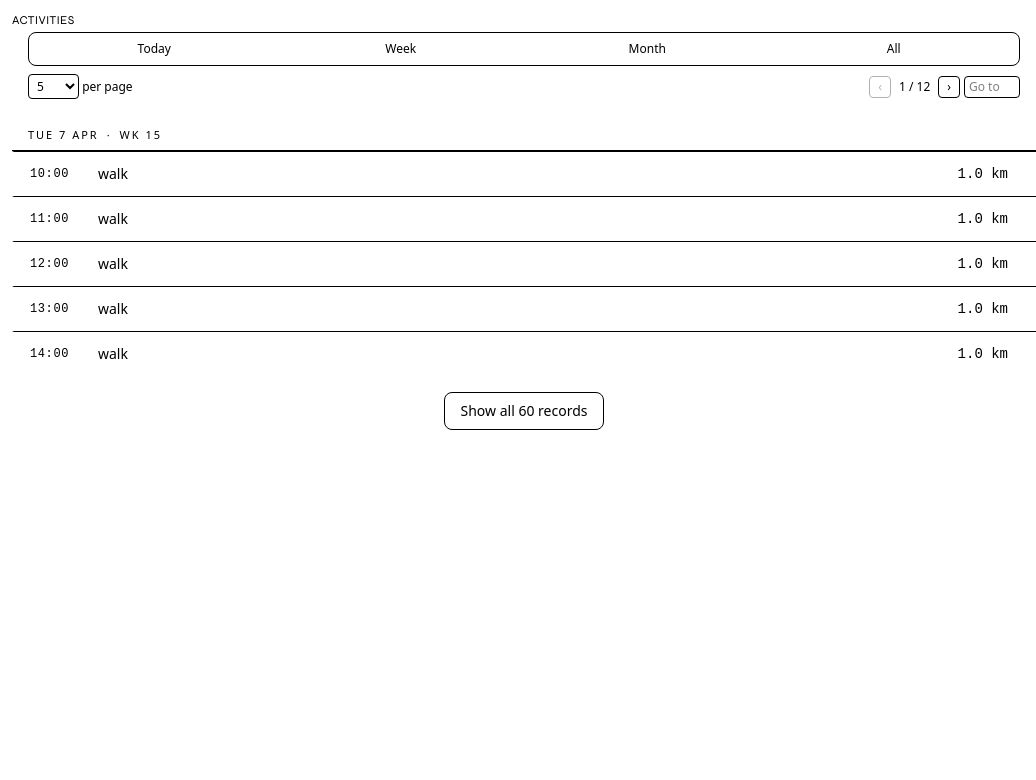
Scenario: ActivityLog — pagination via useListControls › clicking Show all footer renders the entire filtered list
Click the button "Show all 60 records": {"x": 524, "y": 410} [444,392,604,430]
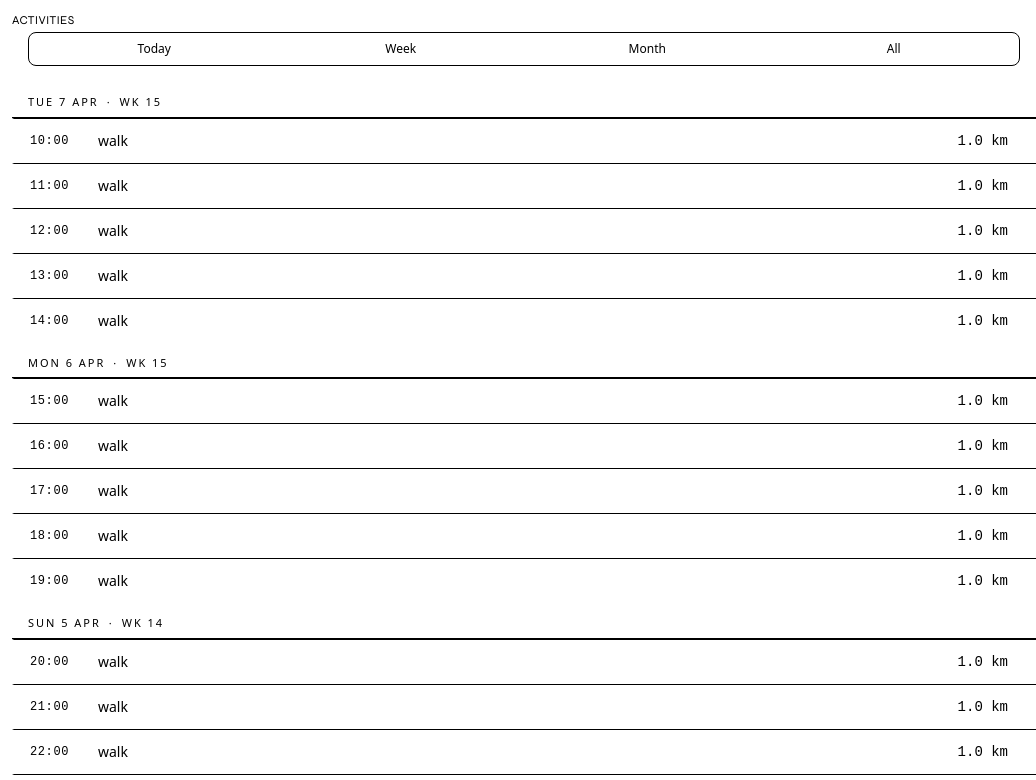
Expected: the number of buttons with test id "activity-row" is 60
